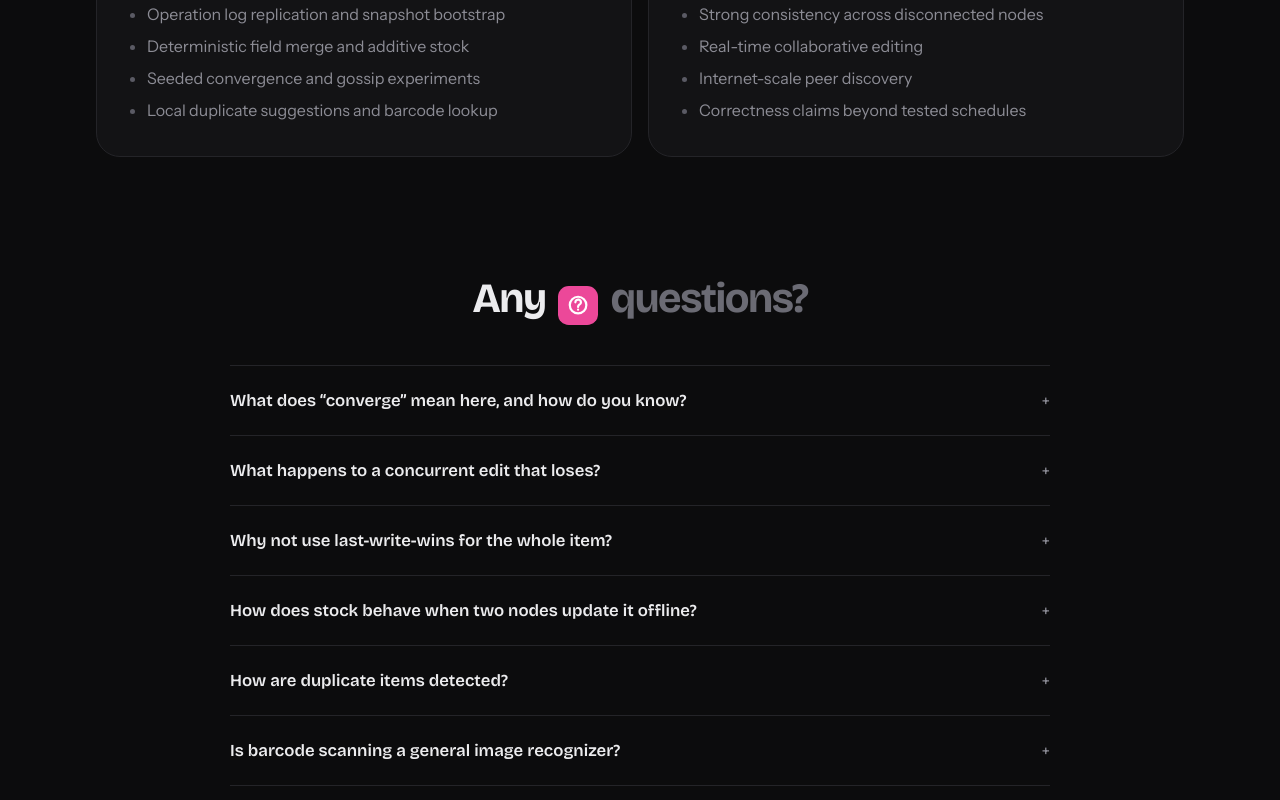
SyncMesh site › uses native disclosure controls for the FAQ
(page scrolled)
Expected: the text "For a fixed operation set" is not shown
Click the heading "What does “converge” mean here, and how do you know?" at (458, 401), box [230,390,686,411]
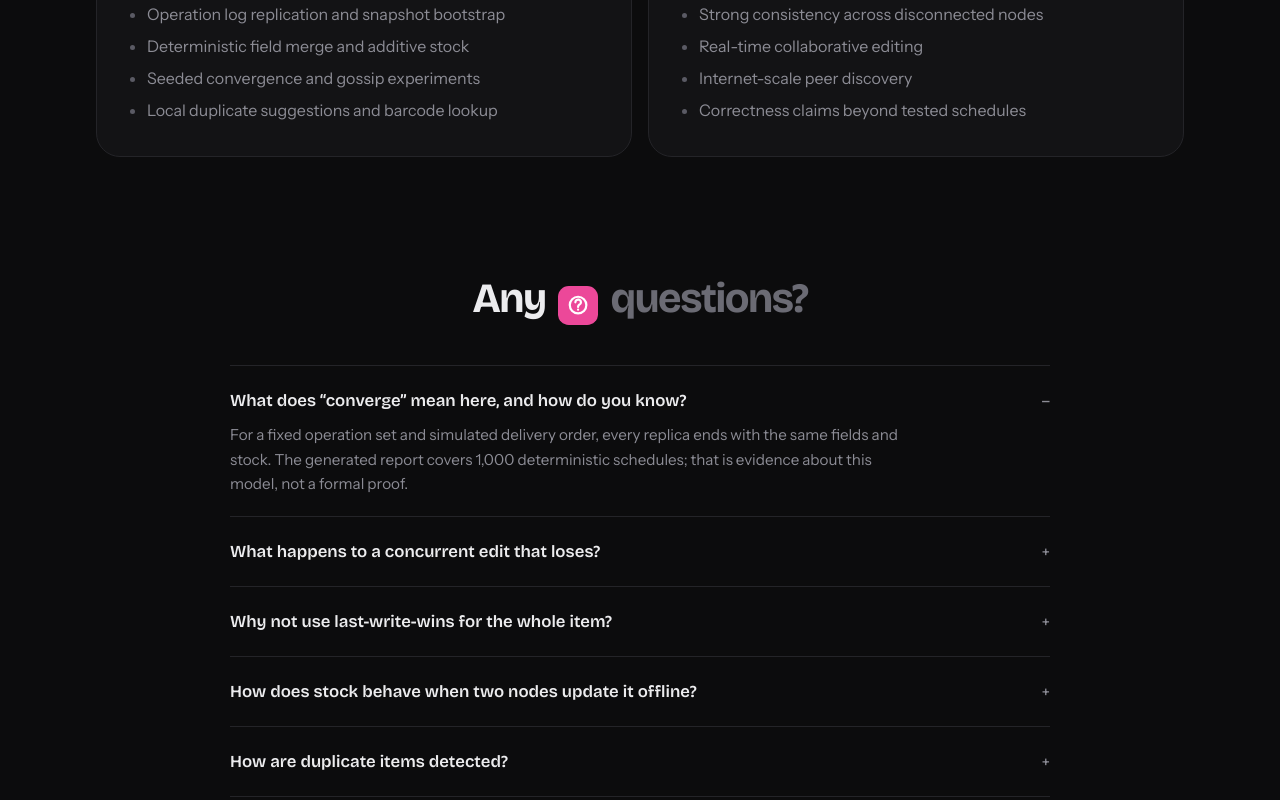
Expected: the text "For a fixed operation set" is shown, [230,425,898,493]
